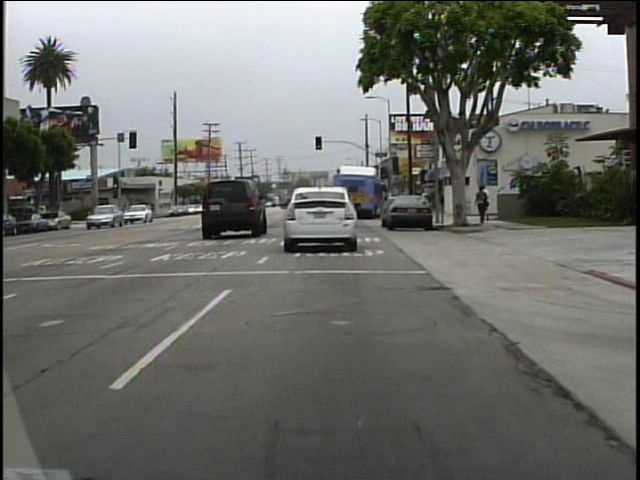person: (473, 182, 490, 226), (482, 182, 493, 223)
